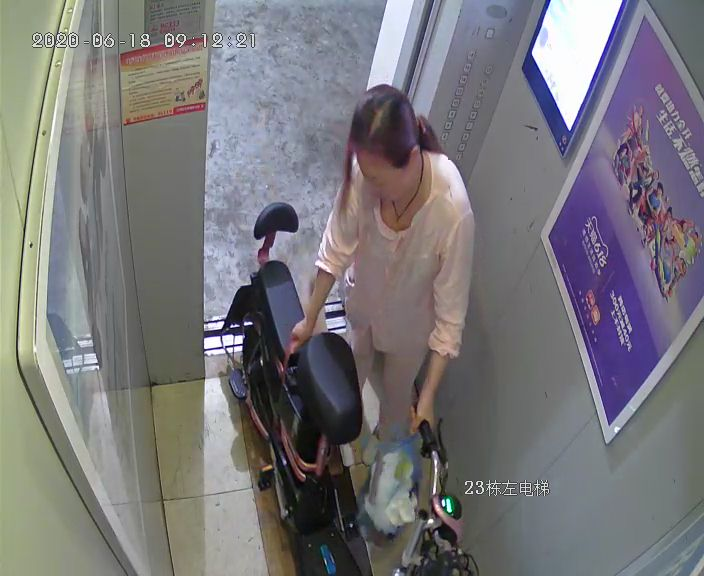Electric-bicycle: (220, 198, 478, 574)
